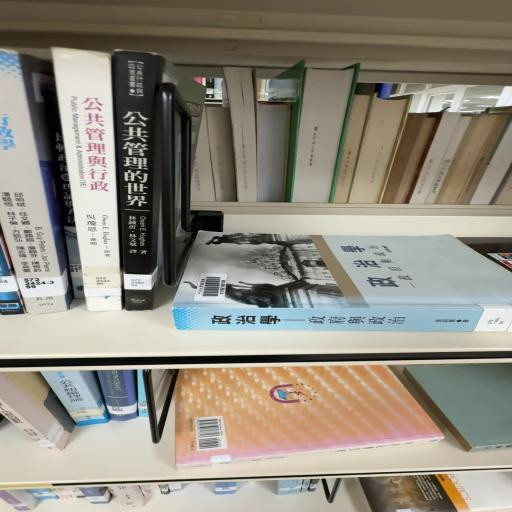flat: (174, 232, 512, 333), (163, 366, 454, 471)
